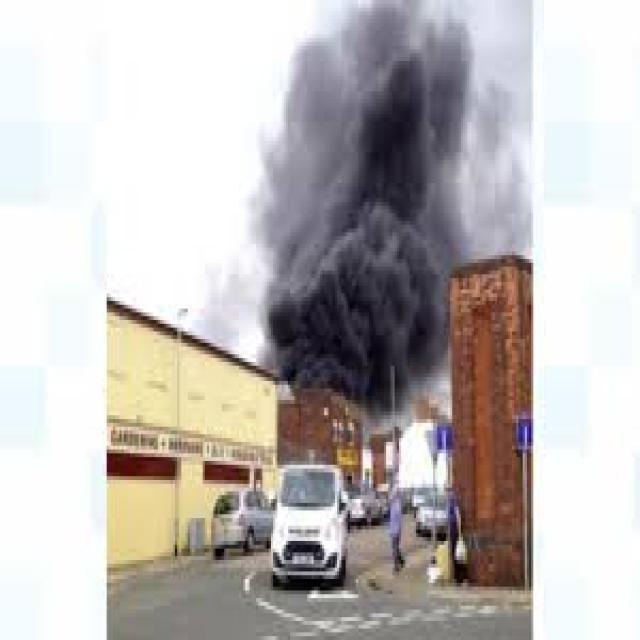Smoke: (236, 0, 532, 405)
